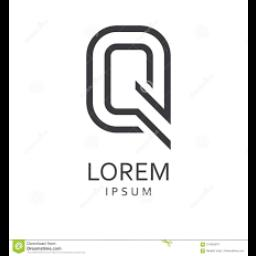q: (80, 20, 174, 154)
